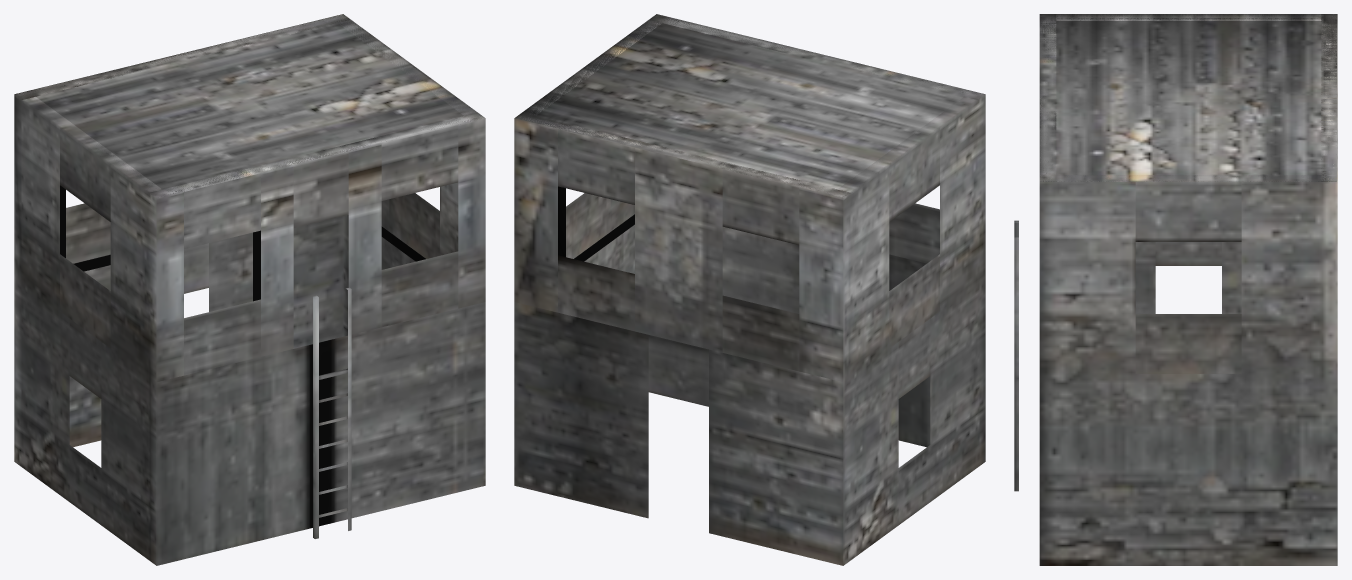
Rendered from skin_railway_78_-11.glb.
3 views of the same model, side by side, from view 1: azimuth 30°, elevation 25°; view 2: azimuth 150°, elevation 25°; view 3: azimuth 270°, elevation 25° (orthographic). The views are drawn at different scales.
Parts seen in each view (by area): view 1: railway_78_-11; view 2: railway_78_-11; view 3: railway_78_-11.
Boxes of the visible parts, x1,y1,x2,y2 form: railway_78_-11: (14, 14, 485, 565); railway_78_-11: (514, 14, 985, 565); railway_78_-11: (1014, 14, 1337, 565).
Size of the model in its own units: 6 by 6.4 by 4.89.
1 material, 1 textured.
